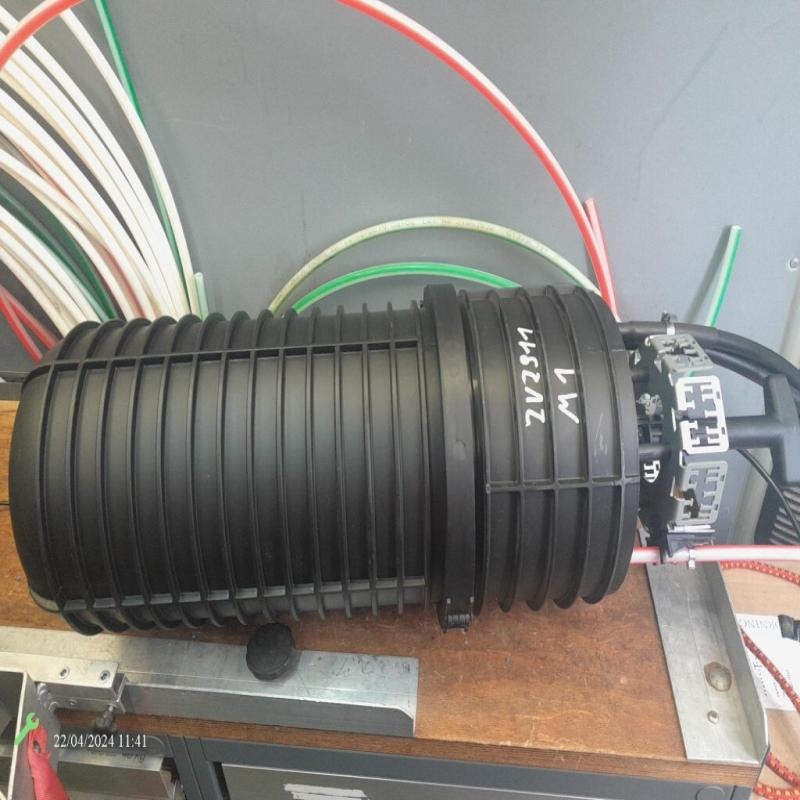NT-Muffen: (7, 279, 735, 644)
